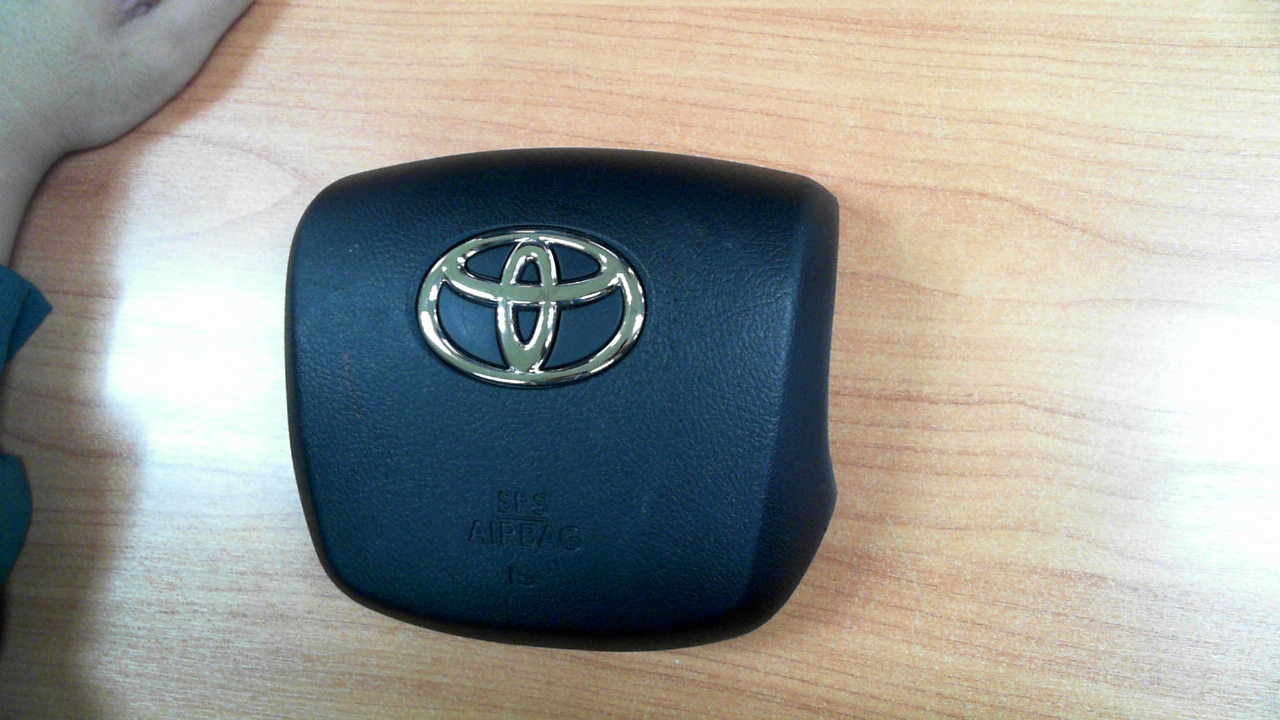Airbag: (284, 147, 840, 654)
Toyota: (417, 229, 646, 386)
